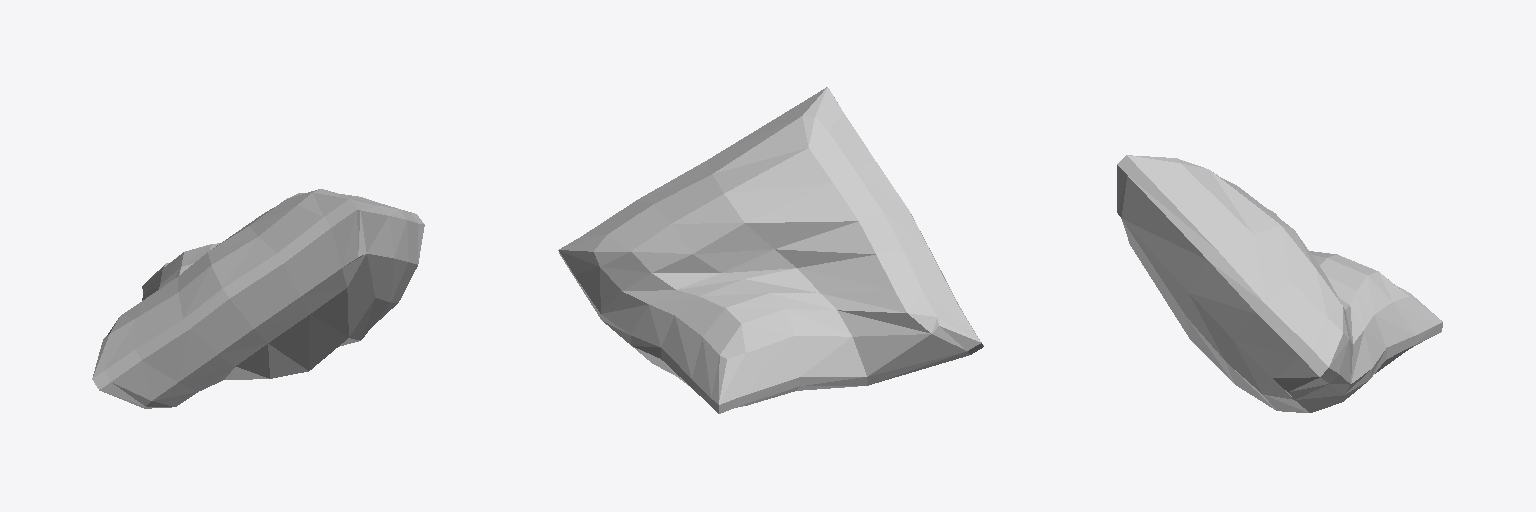
File: Pillow1.obj
The picture shows the model from 3 angles: view 1: azimuth 30°, elevation 25°; view 2: azimuth 150°, elevation 25°; view 3: azimuth 270°, elevation 25°; orthographic projection.
Parts seen in each view (by area): view 1: Pillow1; view 2: Pillow1; view 3: Pillow1.
Part boxes in pixels (left/top/right/bottom): Pillow1: left=92, top=189, right=424, bottom=408; Pillow1: left=558, top=87, right=983, bottom=413; Pillow1: left=1117, top=155, right=1442, bottom=412.
Size of the model in its own units: 11.65 by 6.44 by 8.73.